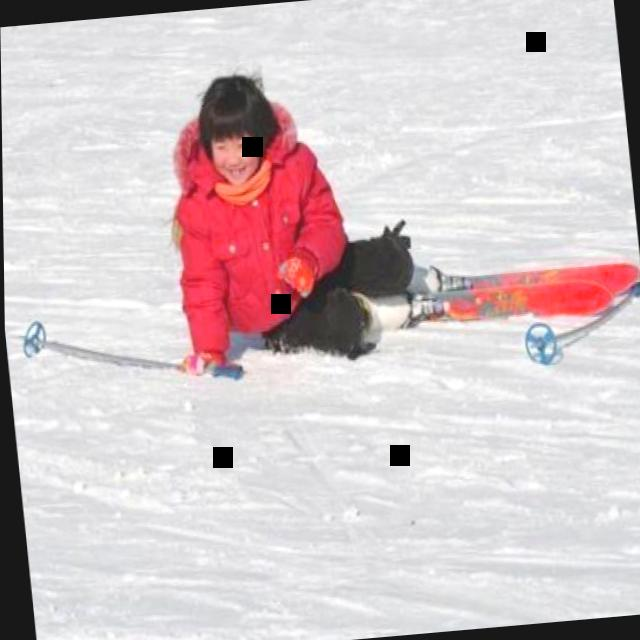Fall-Detected: (140, 37, 447, 384)
